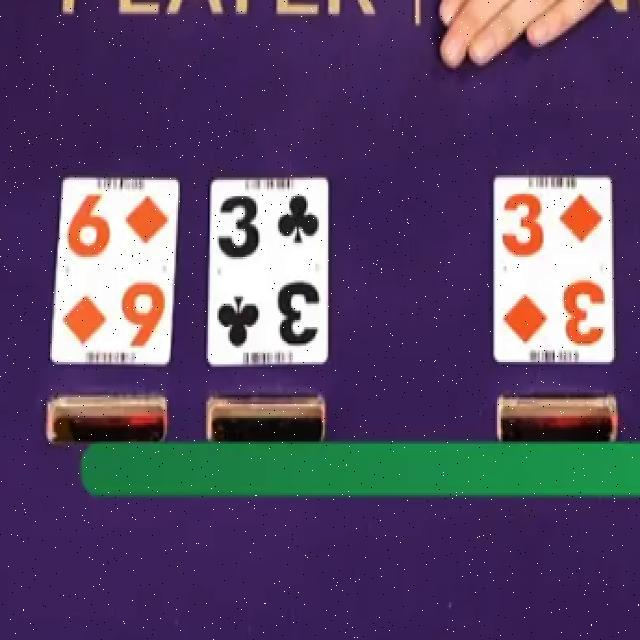Card-3: (494, 172, 613, 364), (208, 178, 328, 364)
Card-6: (51, 174, 180, 366)
